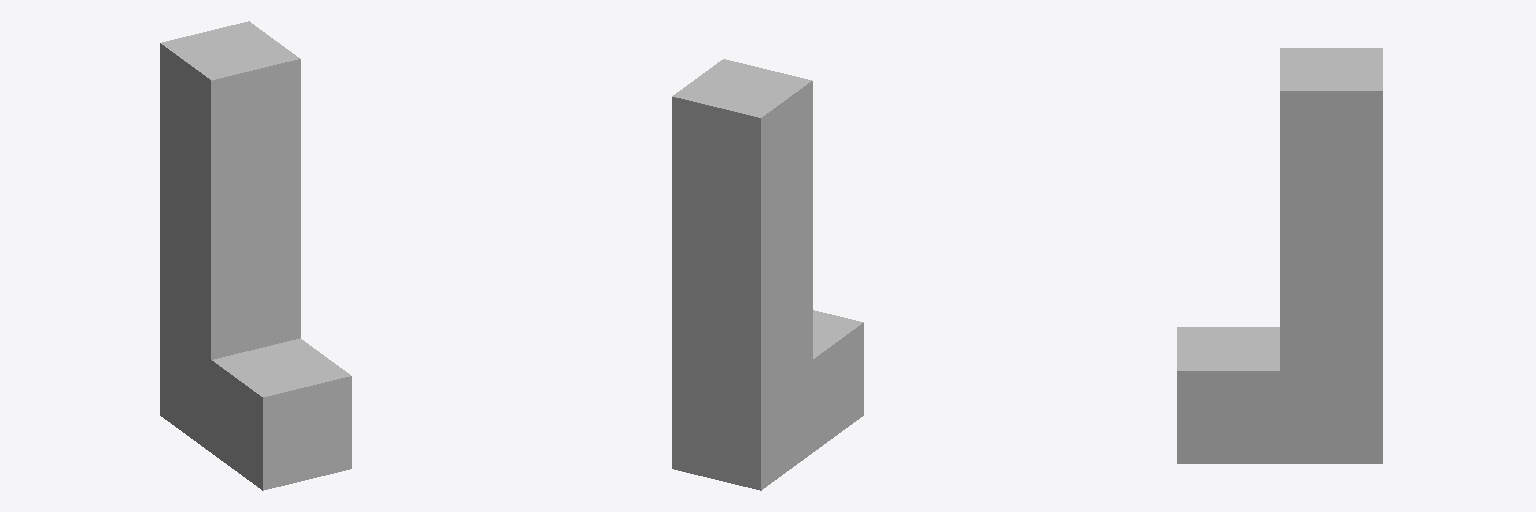
Rendered from leftleg.obj.
3 renders of one model, left to right at view 1: azimuth 30°, elevation 25°; view 2: azimuth 150°, elevation 25°; view 3: azimuth 270°, elevation 25°, orthographic.
Bounding box in the file's own units: 2 × 8 × 4.